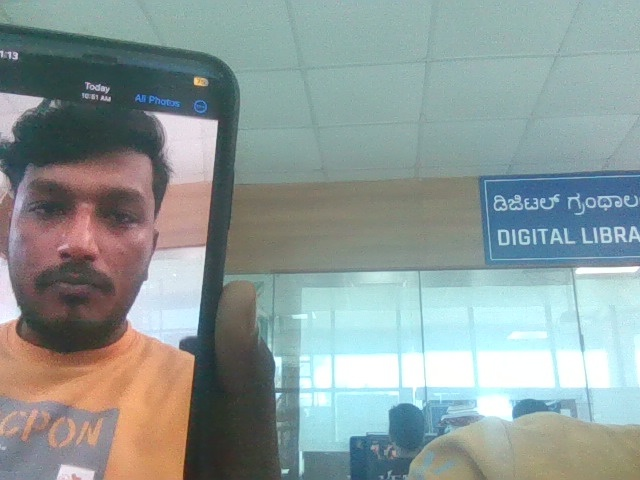fake: (0, 77, 195, 354)
